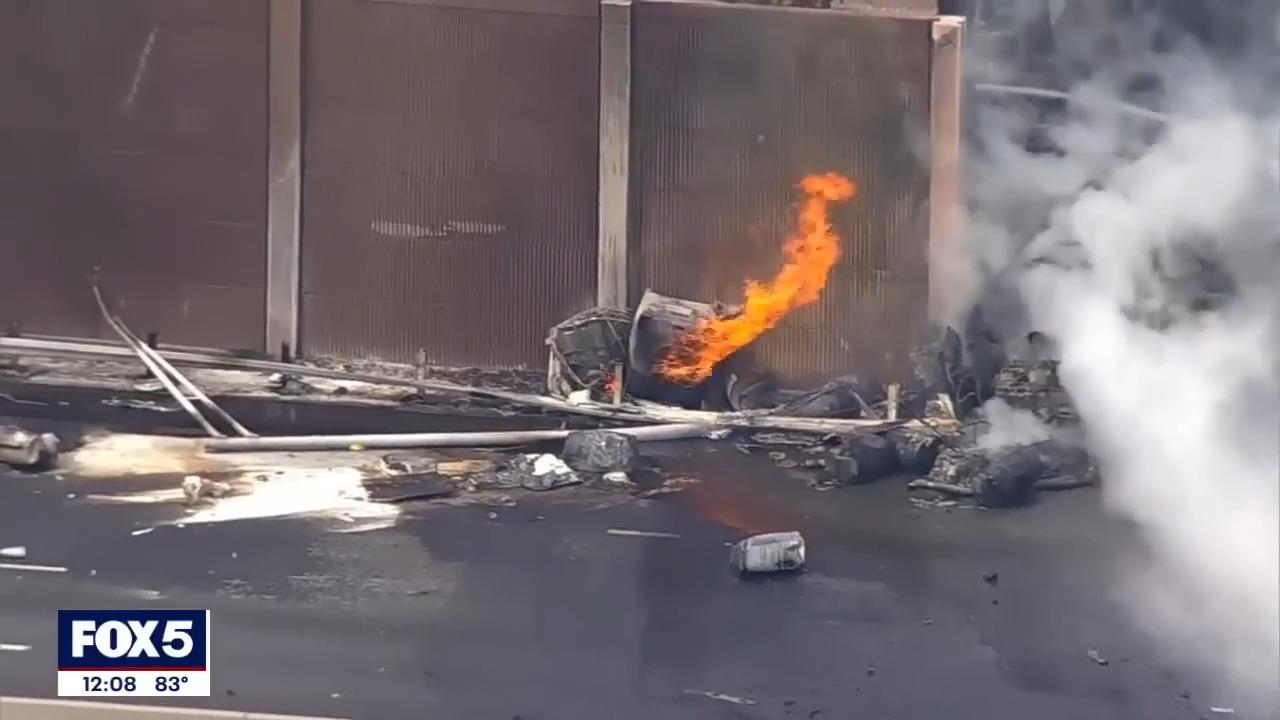fire: (659, 165, 851, 387)
